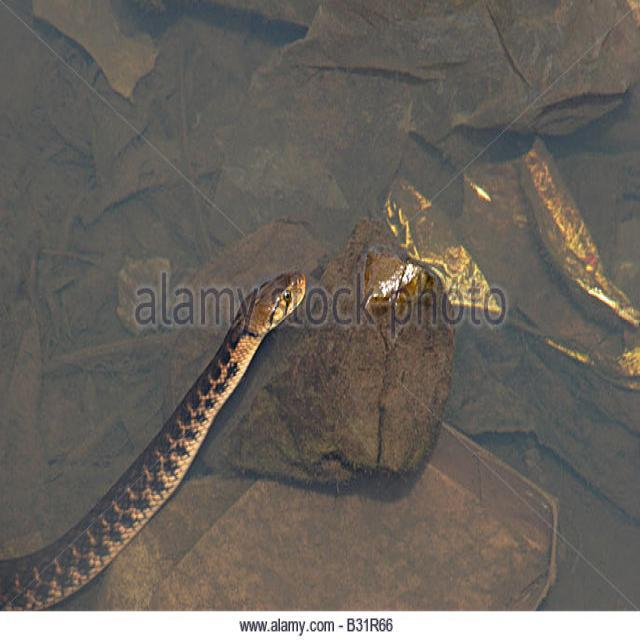Snake: (0, 267, 307, 610)
